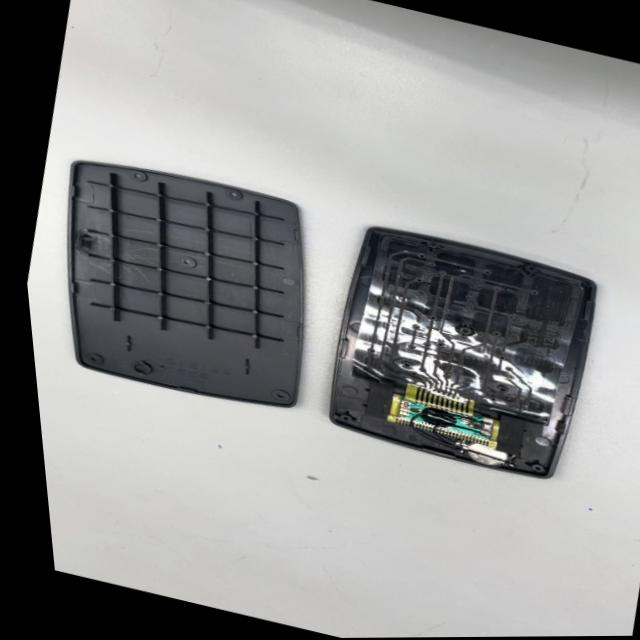back_cover: (22, 144, 352, 423)
front_panel: (304, 213, 624, 492)
